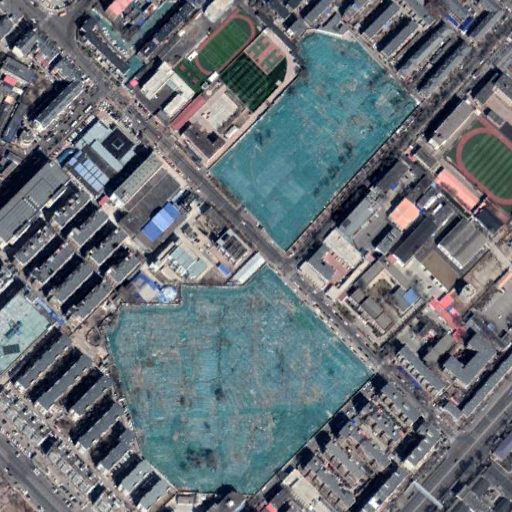cw: (103, 265, 369, 489), (207, 33, 420, 253)
